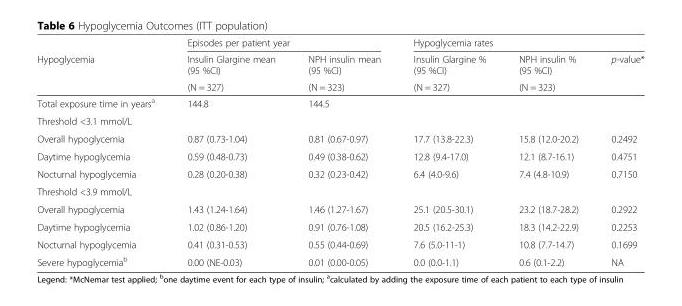table: (36, 36, 643, 267)
table column: (36, 36, 170, 267), (170, 36, 291, 267), (291, 36, 396, 267), (396, 36, 501, 267), (501, 36, 594, 267), (594, 36, 643, 267)
table column header: (36, 36, 643, 94)
table projected row header: (36, 111, 643, 129), (36, 182, 643, 200)
table row: (36, 50, 643, 78), (36, 111, 643, 129), (36, 129, 643, 147), (36, 164, 643, 182), (36, 182, 643, 200), (36, 217, 643, 235), (36, 94, 643, 111), (36, 147, 643, 164), (36, 200, 643, 217), (36, 235, 643, 252), (36, 78, 643, 94), (36, 252, 643, 267), (36, 36, 643, 50)
table spanning cell: (36, 36, 170, 94), (170, 50, 291, 94), (291, 50, 396, 94), (396, 50, 501, 94), (501, 50, 594, 94), (396, 36, 643, 50), (170, 36, 396, 50), (594, 50, 643, 94)
